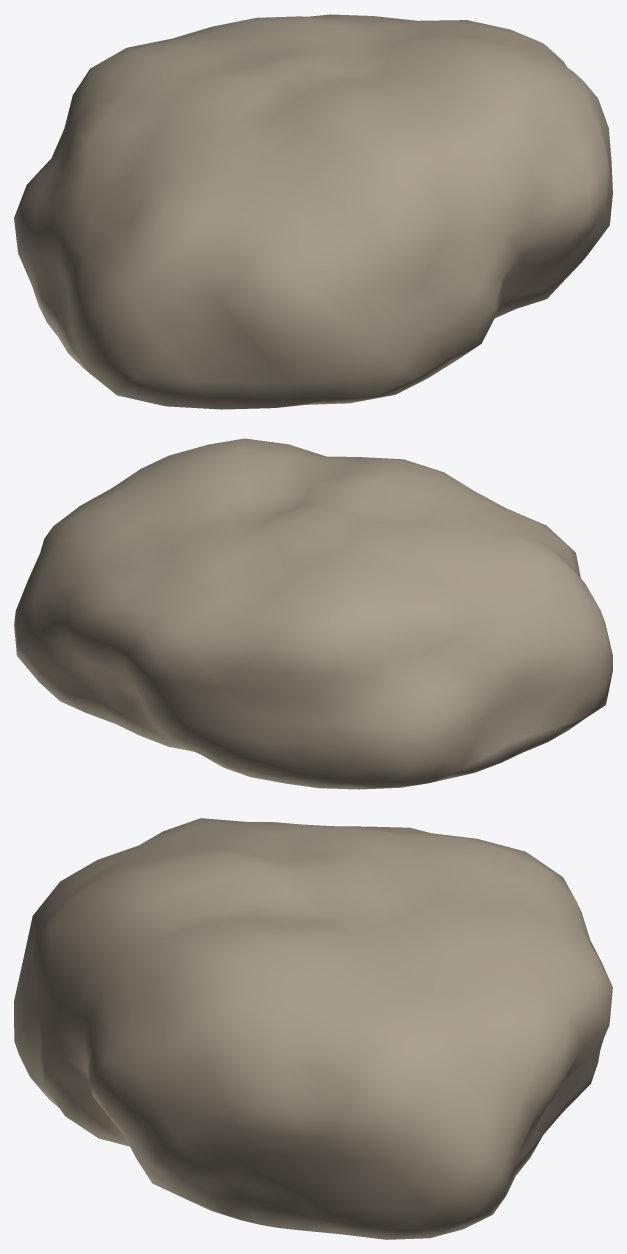
File: rock_a.glb
3 views of the same model, one above another, from view 1: azimuth 30°, elevation 25°; view 2: azimuth 150°, elevation 25°; view 3: azimuth 270°, elevation 25° (orthographic). The views are drawn at different scales.
Parts seen in each view (by area): view 1: rock_a; view 2: rock_a; view 3: rock_a.
Part boxes in pixels (x1,y1,x2,y2): rock_a: (14, 14, 612, 409); rock_a: (14, 438, 612, 789); rock_a: (14, 818, 612, 1239).
Bounding box in the file's own units: 2.11 × 0.7921 × 1.82.
